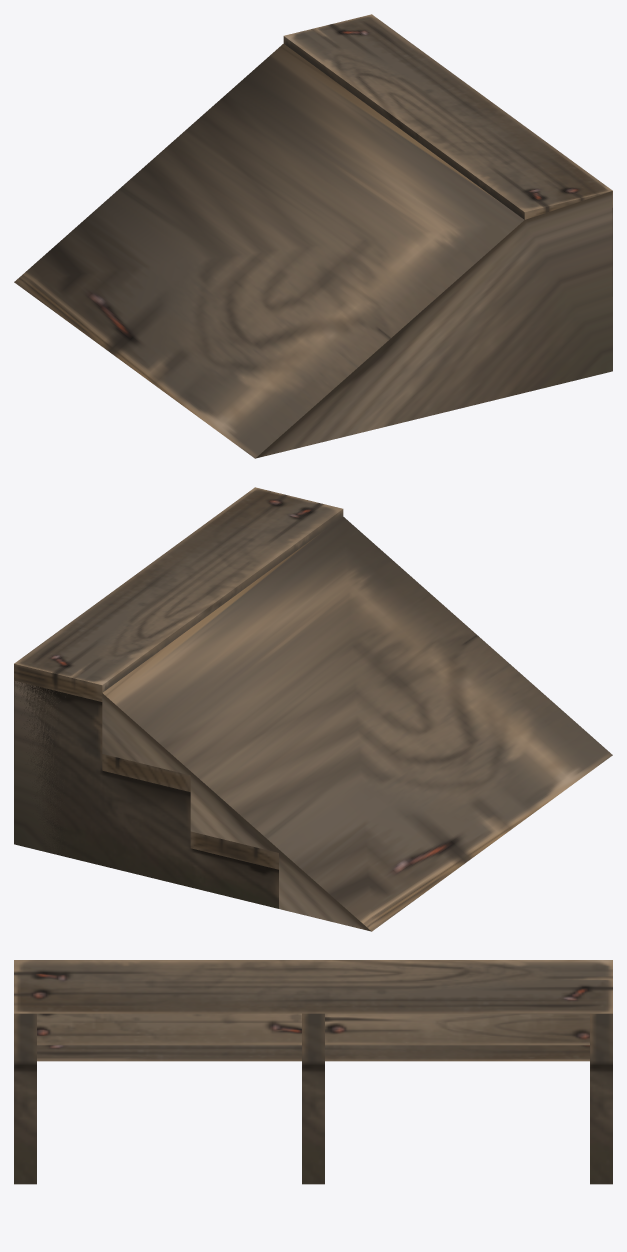
The model's file is stairs04_B.fbx.
3 renders of one model, top to bottom at view 1: azimuth 30°, elevation 25°; view 2: azimuth 150°, elevation 25°; view 3: azimuth 270°, elevation 25°, orthographic. The views are drawn at different scales.
Visible parts, largest first — view 1: stairs04_B_COL, stairs04_B; view 2: stairs04_B_COL, stairs04_B; view 3: stairs04_B.
Part boxes in pixels (left/top/right/bottom): stairs04_B_COL: left=14, top=43, right=612, bottom=458; stairs04_B: left=283, top=14, right=612, bottom=296; stairs04_B_COL: left=14, top=516, right=612, bottom=931; stairs04_B: left=14, top=487, right=343, bottom=908; stairs04_B: left=14, top=960, right=612, bottom=1184.
Bounding box in the file's own units: 111 × 53.73 × 130.
